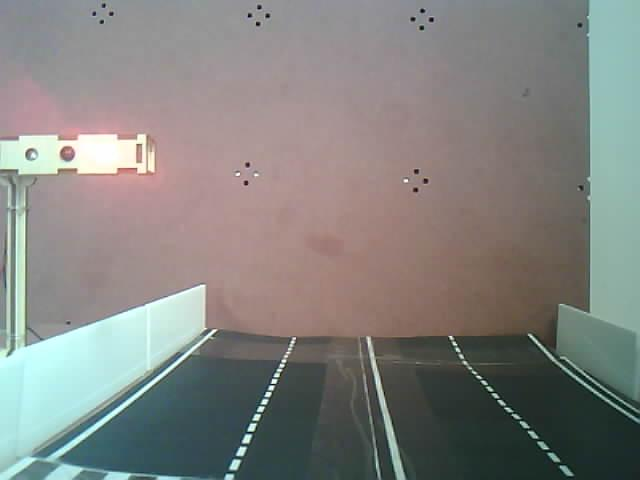crosswalk: (1, 448, 233, 480)
red: (0, 125, 174, 289)
